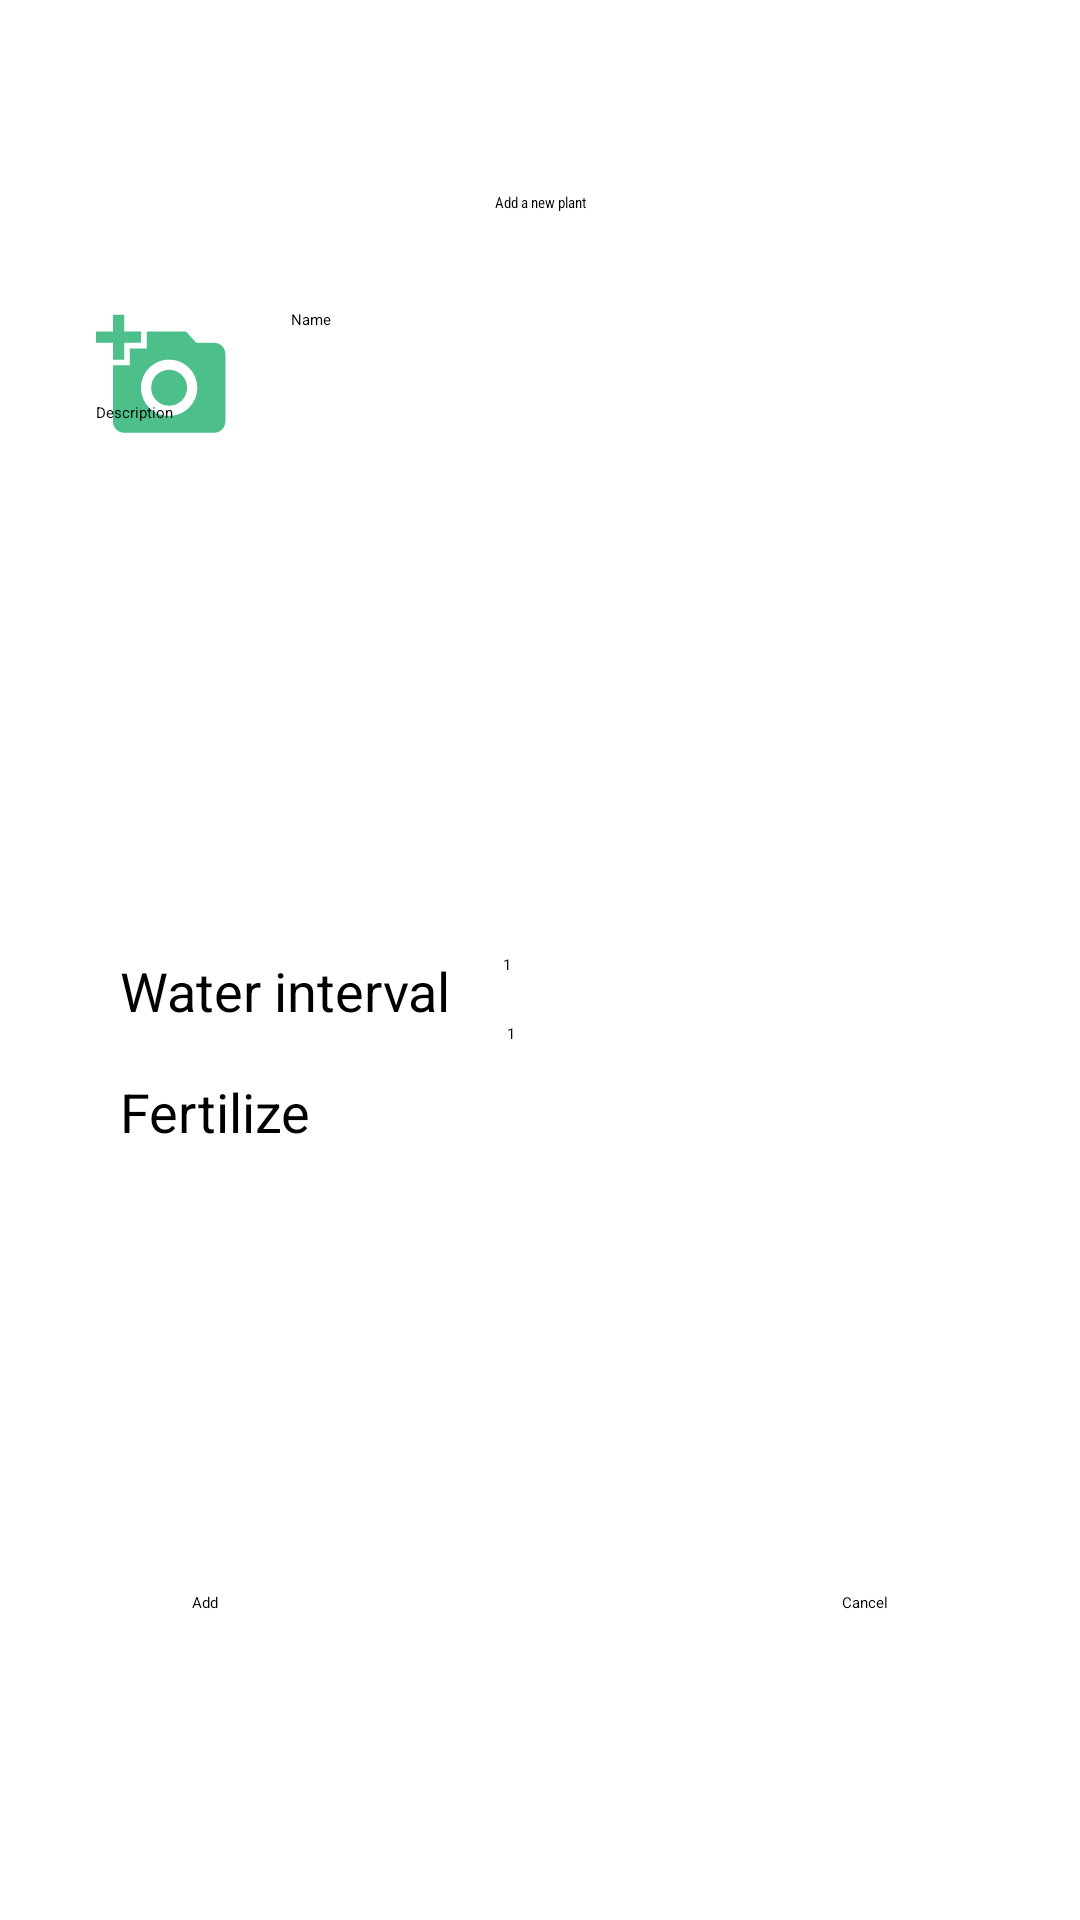

Where to tap for icons on this 1080px×1920px app screen, as point (x, y):
photo: point (161, 373)
